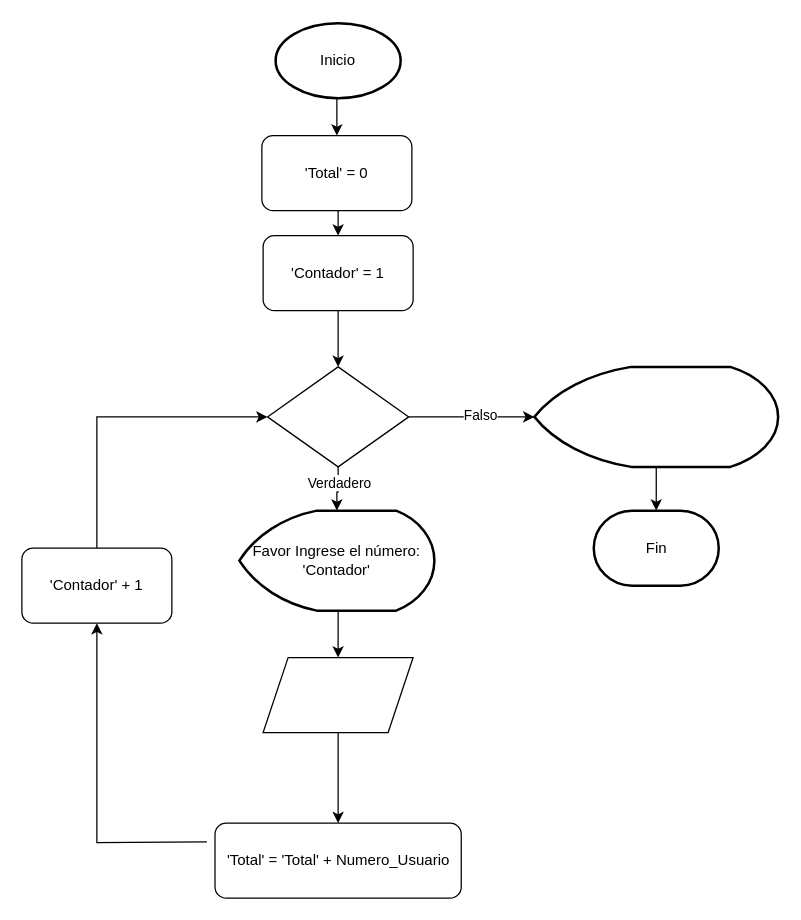
The diagram is 801 pixels wide and 920 high, and some of its shapes have lost their labels. Here are the shapes that lost their labels. From the top down, the centre of each, then its label:
point 337,416: 'Contador' ≤ 100
point 655,416: La suma de todos los números es: 'Total'
point 337,694: Numero_Usuario
